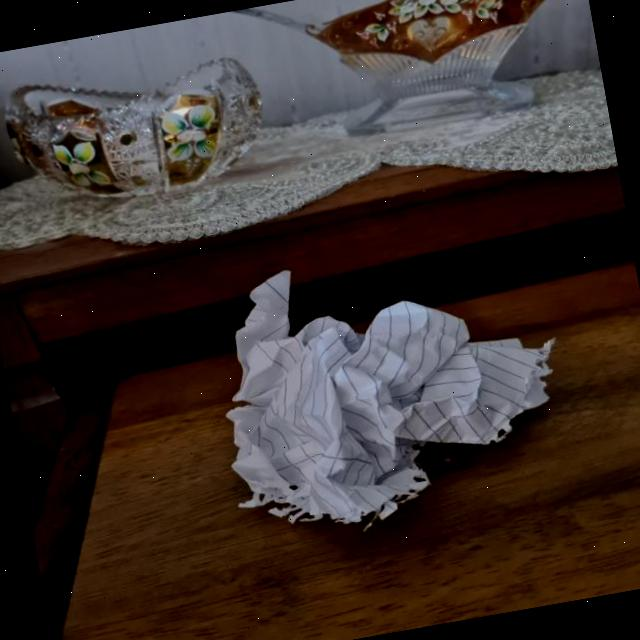trash: (197, 230, 584, 540)
